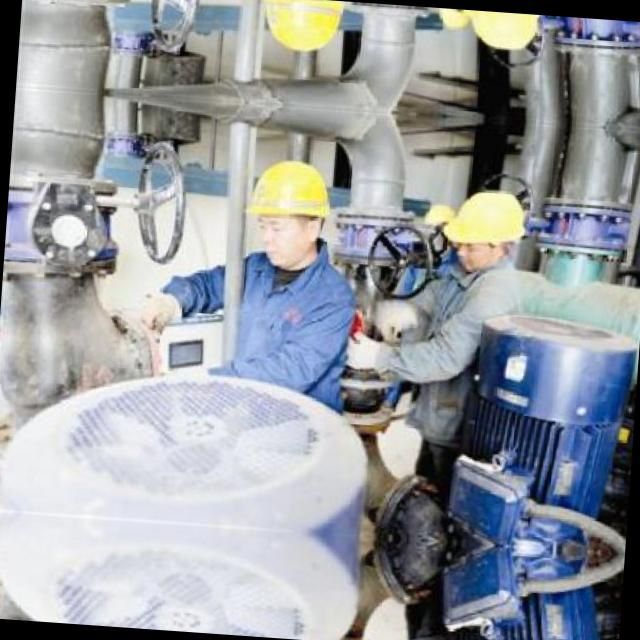helmet: (244, 148, 338, 268), (447, 182, 527, 270), (259, 0, 350, 61), (462, 9, 540, 56)
